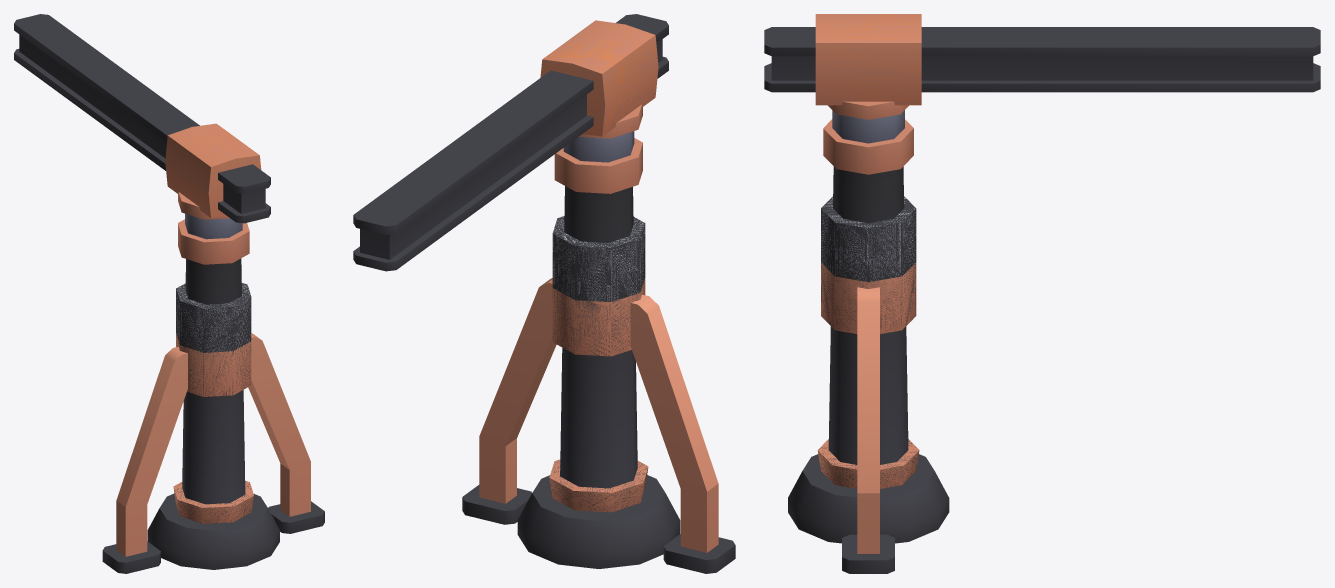
File: crane.obj
The picture shows the model from 3 angles, left to right: view 1: azimuth 30°, elevation 25°; view 2: azimuth 150°, elevation 25°; view 3: azimuth 270°, elevation 25°; orthographic projection. The views are drawn at different scales.
Parts seen in each view (by area): view 1: crane, arm; view 2: crane, arm; view 3: crane, arm.
Boxes of the visible parts, left/top/right/bottom form: crane: left=102, top=213, right=324, bottom=573; arm: left=14, top=14, right=270, bottom=223; crane: left=462, top=131, right=735, bottom=573; arm: left=353, top=14, right=668, bottom=271; crane: left=788, top=110, right=949, bottom=573; arm: left=764, top=14, right=1320, bottom=119.
Bounding box in the file's own units: 1.93 × 3.55 × 3.68.
